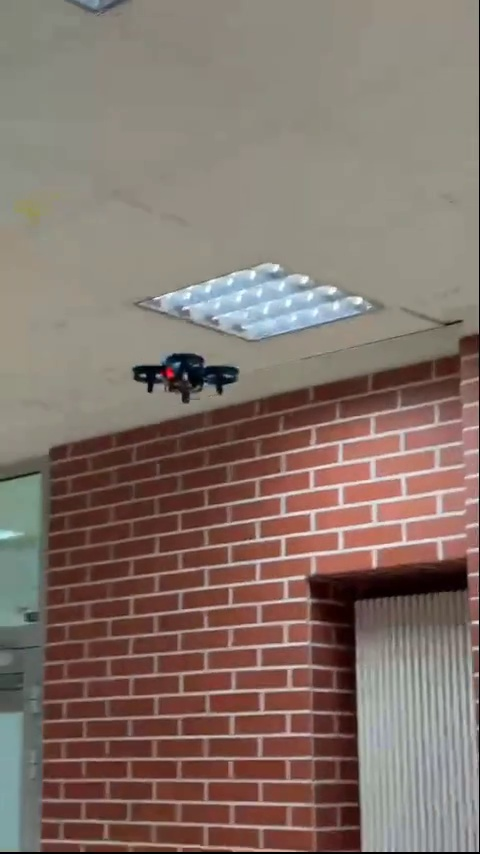drone: (132, 348, 235, 408)
